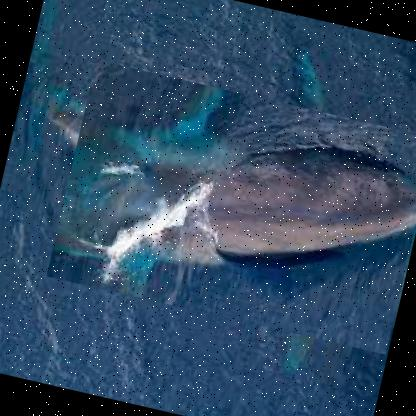blue_whale: (45, 60, 415, 357)
